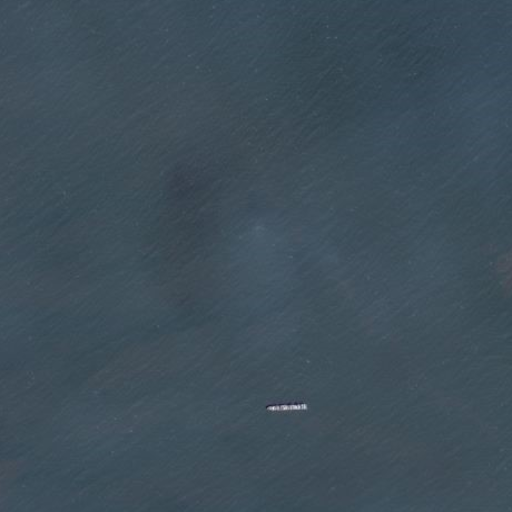ship: (262, 401, 311, 413)
